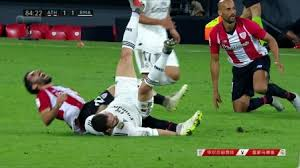fall: (23, 63, 204, 137)
